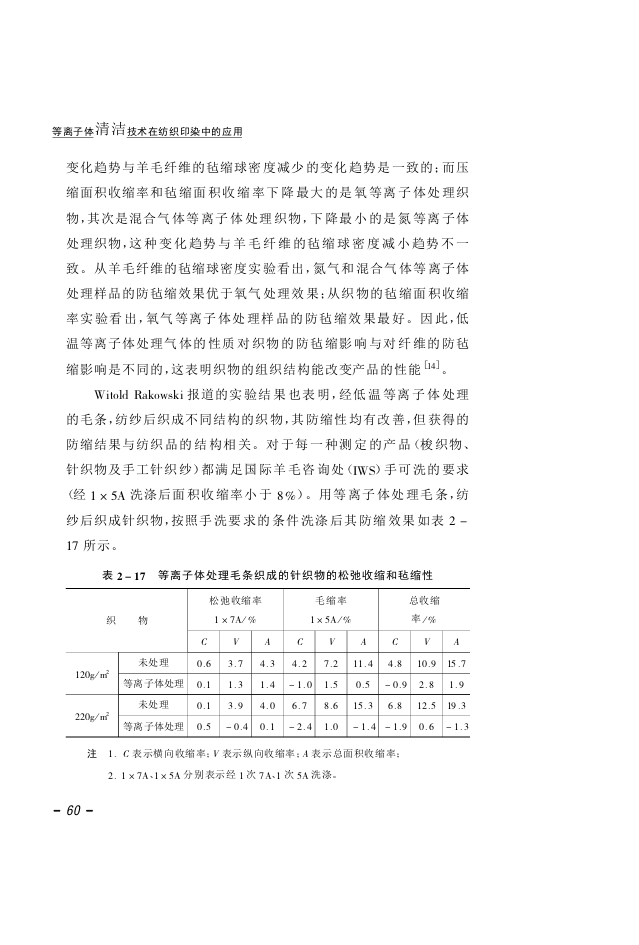table: (65, 588, 471, 737)
